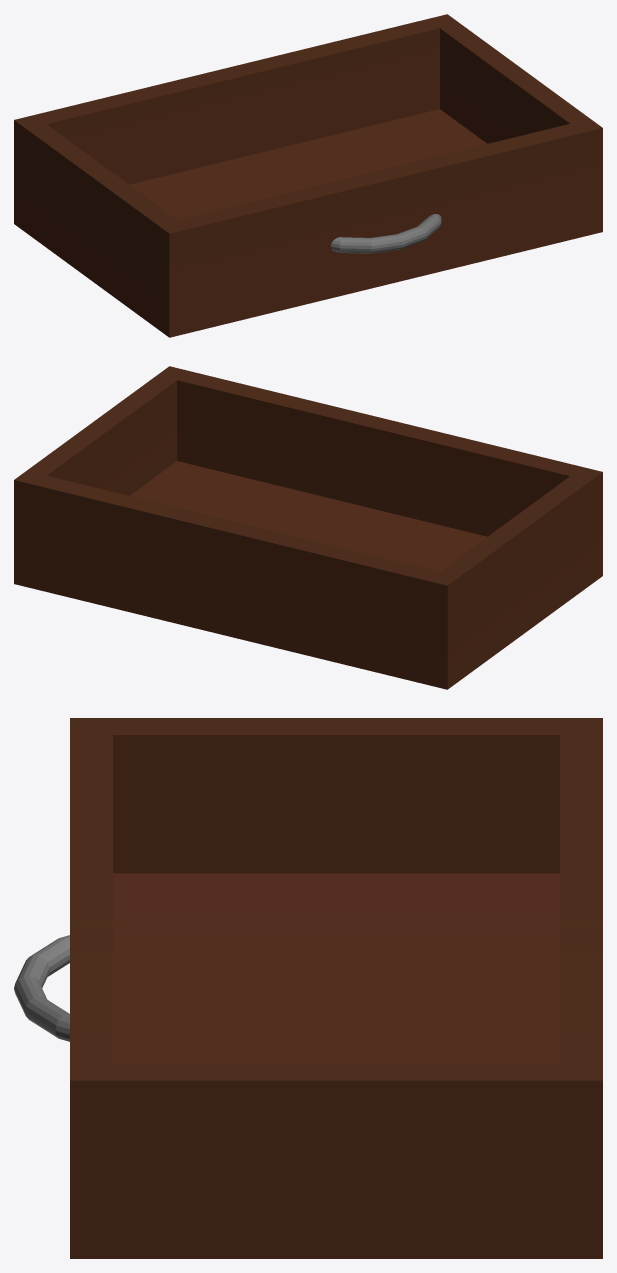
The model's file is MOD_tiroir.fbx.
3 views of the same model, one above another, from view 1: azimuth 30°, elevation 25°; view 2: azimuth 150°, elevation 25°; view 3: azimuth 270°, elevation 25° (orthographic). The views are drawn at different scales.
Visible parts, largest first — view 1: Tiroir haut; view 2: Tiroir haut; view 3: Tiroir haut.
Part boxes in pixels (x1,y1,x2,y2): Tiroir haut: (14,14,602,337); Tiroir haut: (14,366,602,689); Tiroir haut: (14,718,602,1258).
Bounding box in the file's own units: 0.6908 × 0.1585 × 0.4744.
